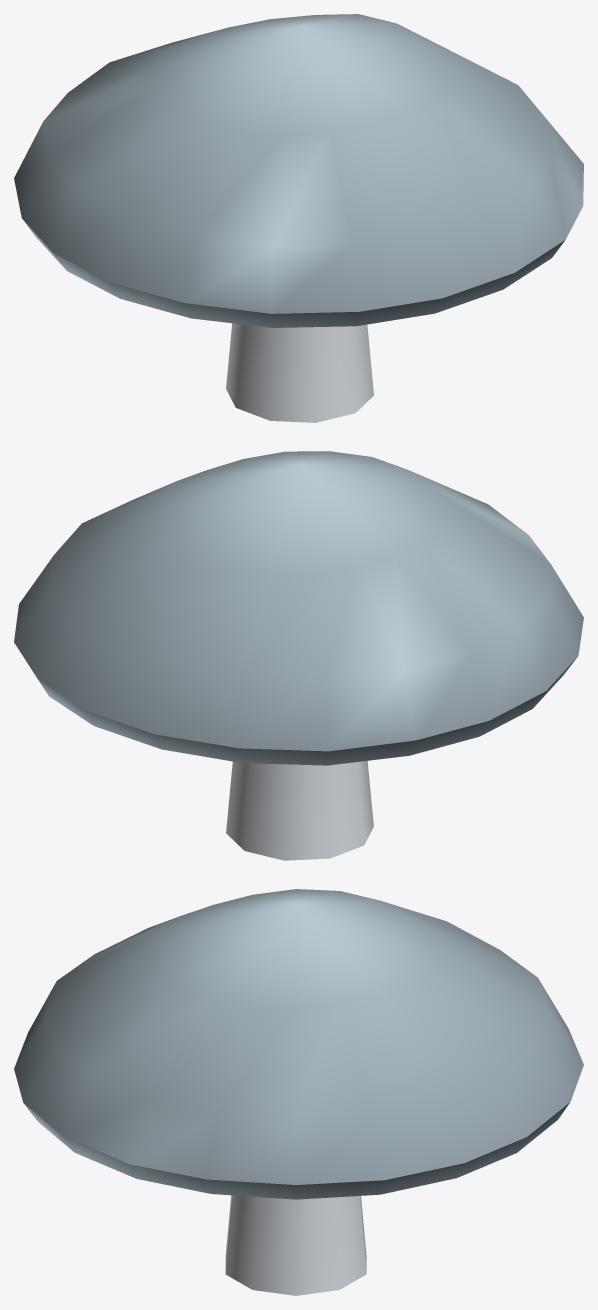
File: frostcap.glb
3 views of the same model, one above another, from view 1: azimuth 30°, elevation 25°; view 2: azimuth 150°, elevation 25°; view 3: azimuth 270°, elevation 25° (orthographic).
Visible parts, largest first — view 1: frostcap; view 2: frostcap; view 3: frostcap.
Part boxes in pixels (left/top/right/bottom): frostcap: left=14, top=14, right=583, bottom=422; frostcap: left=14, top=451, right=583, bottom=860; frostcap: left=14, top=889, right=583, bottom=1295.
Size of the model in its own units: 0.05 by 0.035 by 0.05.
